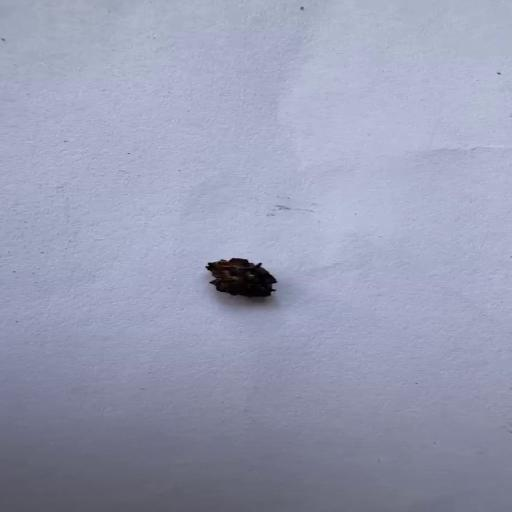papaya_seed: (204, 257, 279, 298)
